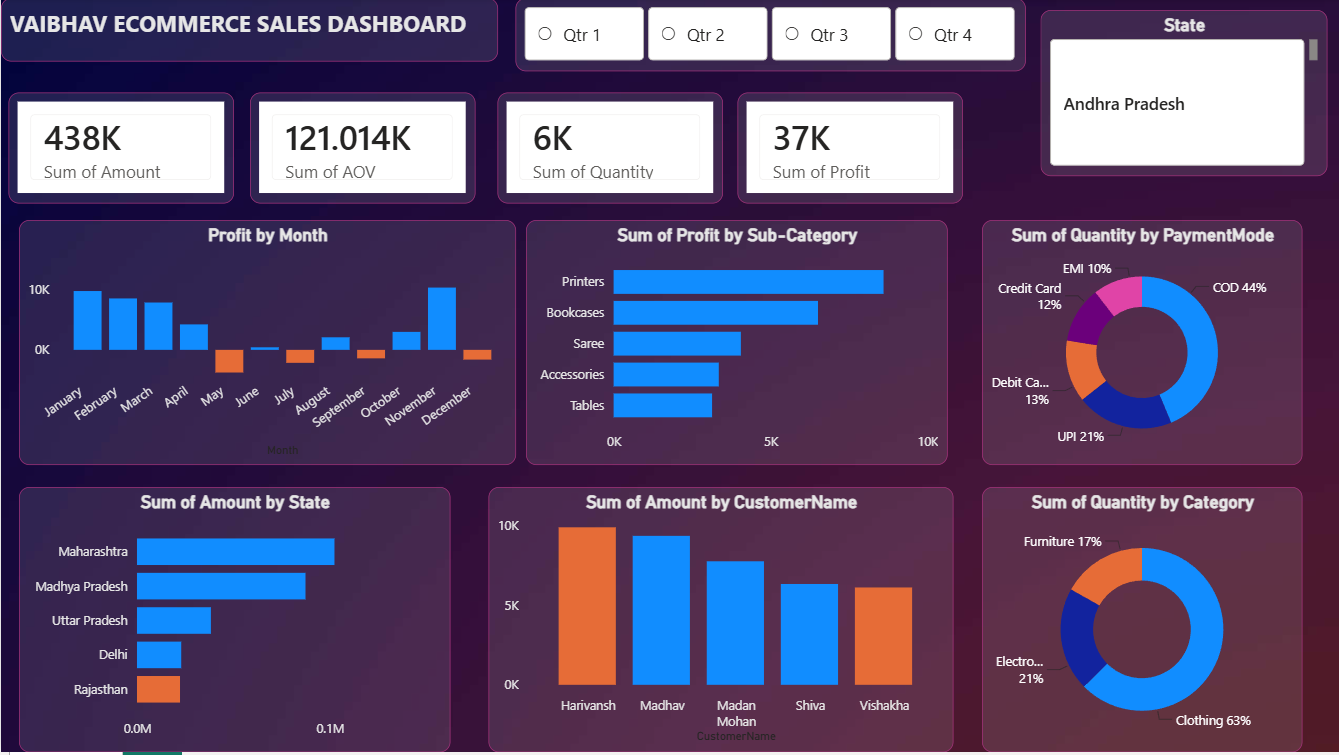

This screenshot's page, from the dashboard's own definition file:
{"tool":"powerbi","page":{"name":"Page 1","canvas":[1280,720],"ordinal":0},"visuals":[{"type":"textbox","box":[0,0,474.3,60.5],"z":0},{"type":"columnChart","title":"Profit by Month","fields":{"Category":["Orders.Order Date.Variation.Date Hierarchy.Month"],"Y":["Sum(Details.Profit)"]},"box":[17,211.7,474.3,234.3],"z":1000},{"type":"barChart","fields":{"Category":["Details.Sub-Category"],"Y":["Sum(Details.Profit)"]},"box":[500.8,211.7,402.5,234.3],"z":2000},{"type":"donutChart","fields":{"Category":["Details.Category"],"Y":["Sum(Details.Quantity)"]},"box":[937.3,466.8,306.1,253.2],"z":3000},{"type":"donutChart","fields":{"Category":["Details.PaymentMode"],"Y":["Sum(Details.Quantity)"]},"box":[937.3,211.7,306.1,234.3],"z":4000},{"type":"cardVisual","fields":{"Data":["Sum(Details.Amount)"]},"box":[7.6,90.7,215.4,105.8],"z":5000},{"type":"cardVisual","fields":{"Data":["Sum(Details.Quantity)"]},"box":[474.3,90.7,215.4,105.8],"z":6000},{"type":"cardVisual","fields":{"Data":["Sum(Details.Profit)"]},"box":[703,90.7,215.4,105.8],"z":7000},{"type":"cardVisual","fields":{"Data":["Sum(Details.AOV)"]},"box":[238.1,90.7,215.4,105.8],"z":8000},{"type":"barChart","fields":{"Category":["Orders.State"],"Y":["Sum(Details.Amount)"]},"box":[17,466.8,412,253.2],"z":9000},{"type":"columnChart","fields":{"Category":["Orders.CustomerName"],"Y":["Sum(Details.Amount)"]},"box":[464.9,466.8,444.1,253.2],"z":10000},{"type":"advancedSlicerVisual","fields":{"Values":["Orders.Order Date.Variation.Date Hierarchy.Quarter"]},"box":[491.3,0,487.6,69.9],"z":11000},{"type":"advancedSlicerVisual","fields":{"Values":["Orders.State"]},"box":[992.1,11.3,274,158.7],"z":12000}]}

Visuals, with their boxes in screenshot pixels (x1, y1, x2, y2), scaled from the page's 1280x720 canvas onto the 1339x755 screenshot:
textbox: 0/0/496/63
"Profit by Month" columnChart: 18/222/514/468
barChart - Details.Sub-Category x Sum(Details.Profit): 524/222/945/468
donutChart - Details.Category x Sum(Details.Quantity): 981/489/1301/754
donutChart - Details.PaymentMode x Sum(Details.Quantity): 981/222/1301/468
cardVisual - Sum(Details.Amount): 8/95/233/206
cardVisual - Sum(Details.Quantity): 496/95/721/206
cardVisual - Sum(Details.Profit): 735/95/961/206
cardVisual - Sum(Details.AOV): 249/95/474/206
barChart - Orders.State x Sum(Details.Amount): 18/489/449/754
columnChart - Orders.CustomerName x Sum(Details.Amount): 486/489/951/754
advancedSlicerVisual - Orders.Order Date.Variation.Date Hierarchy.Quarter: 514/0/1024/73
advancedSlicerVisual - Orders.State: 1038/12/1324/178
